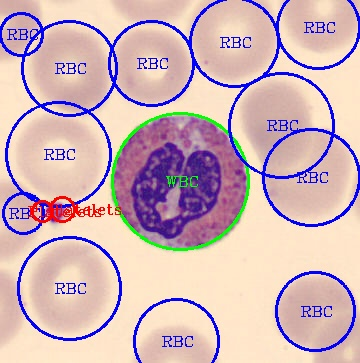Platelets: (40, 199, 71, 229)
RBC: (259, 124, 352, 226), (12, 108, 104, 203), (27, 237, 112, 337), (187, 0, 280, 83), (28, 22, 110, 116), (238, 76, 315, 169), (271, 271, 358, 350), (113, 26, 194, 107), (276, 1, 358, 57), (127, 320, 223, 361), (0, 176, 42, 264)
WBC: (110, 110, 248, 252)
